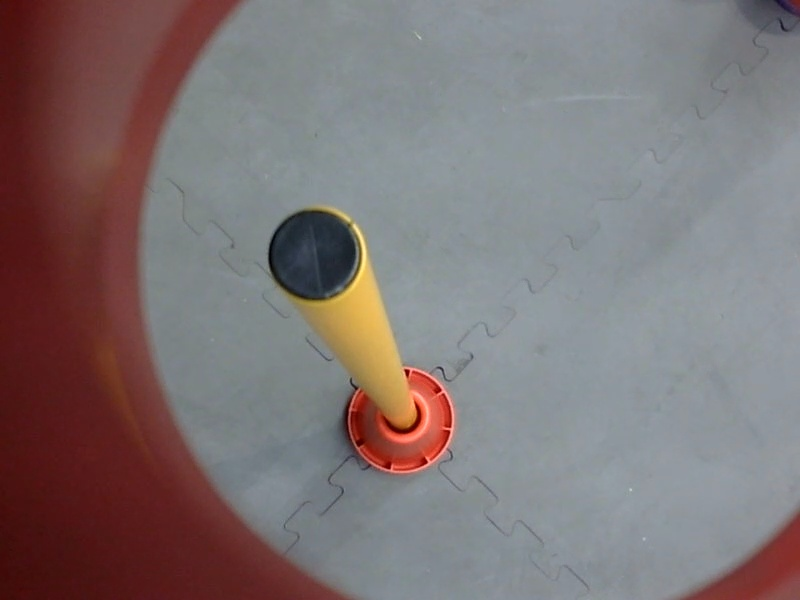tip: (261, 201, 370, 309)
